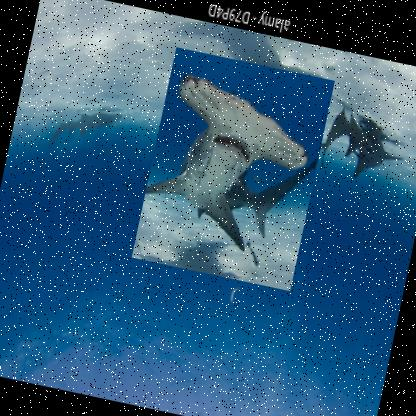hammerhead_Shark: (130, 46, 334, 290)
